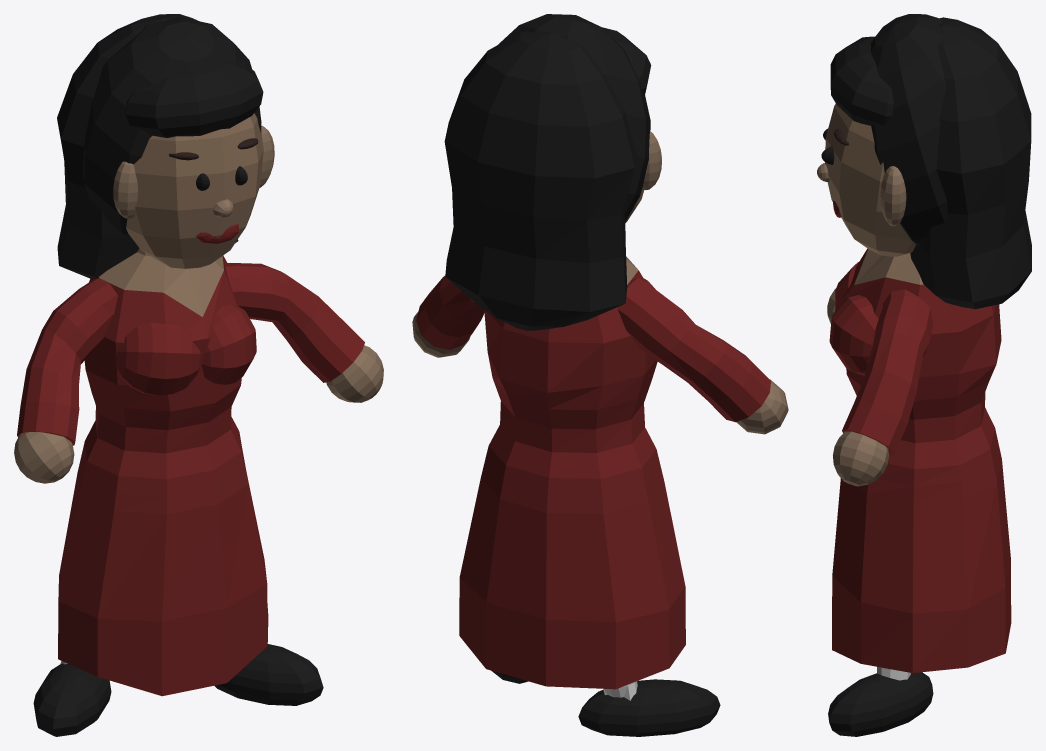
The model's file is Character07.fbx.
3 renders of one model, left to right at view 1: azimuth 30°, elevation 25°; view 2: azimuth 150°, elevation 25°; view 3: azimuth 270°, elevation 25°, orthographic.
Parts seen in each view (by area): view 1: Villager05; view 2: Villager05; view 3: Villager05.
Boxes of the visible parts, x1=… form: Villager05: x1=14, y1=14, x2=383, y2=736; Villager05: x1=412, y1=14, x2=788, y2=736; Villager05: x1=817, y1=14, x2=1031, y2=736.
Bounding box in the file's own units: 0.2606 × 0.4613 × 0.1343.
